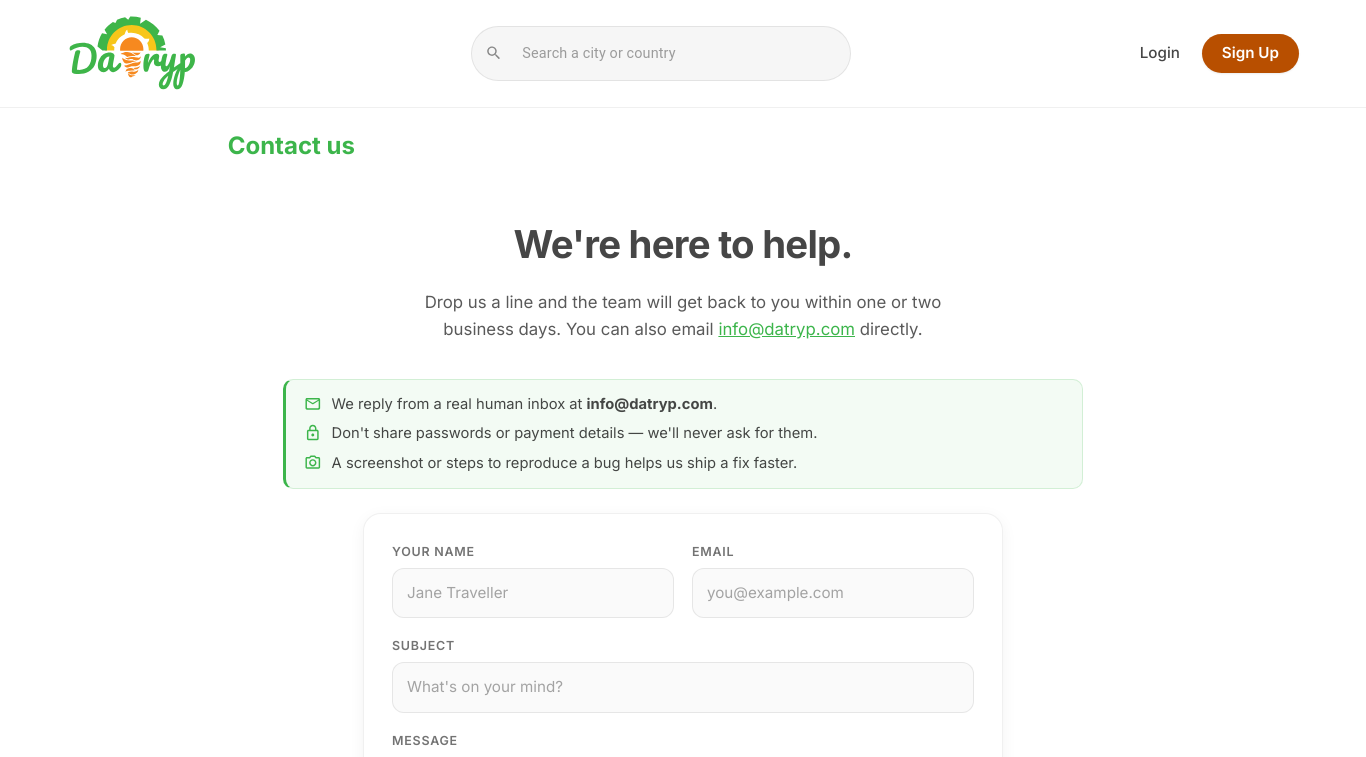
it: Contact › rejects an invalid email address
Type "Jane" into the field labelled "Your name". click: (533, 593)
box: [392, 568, 674, 618]
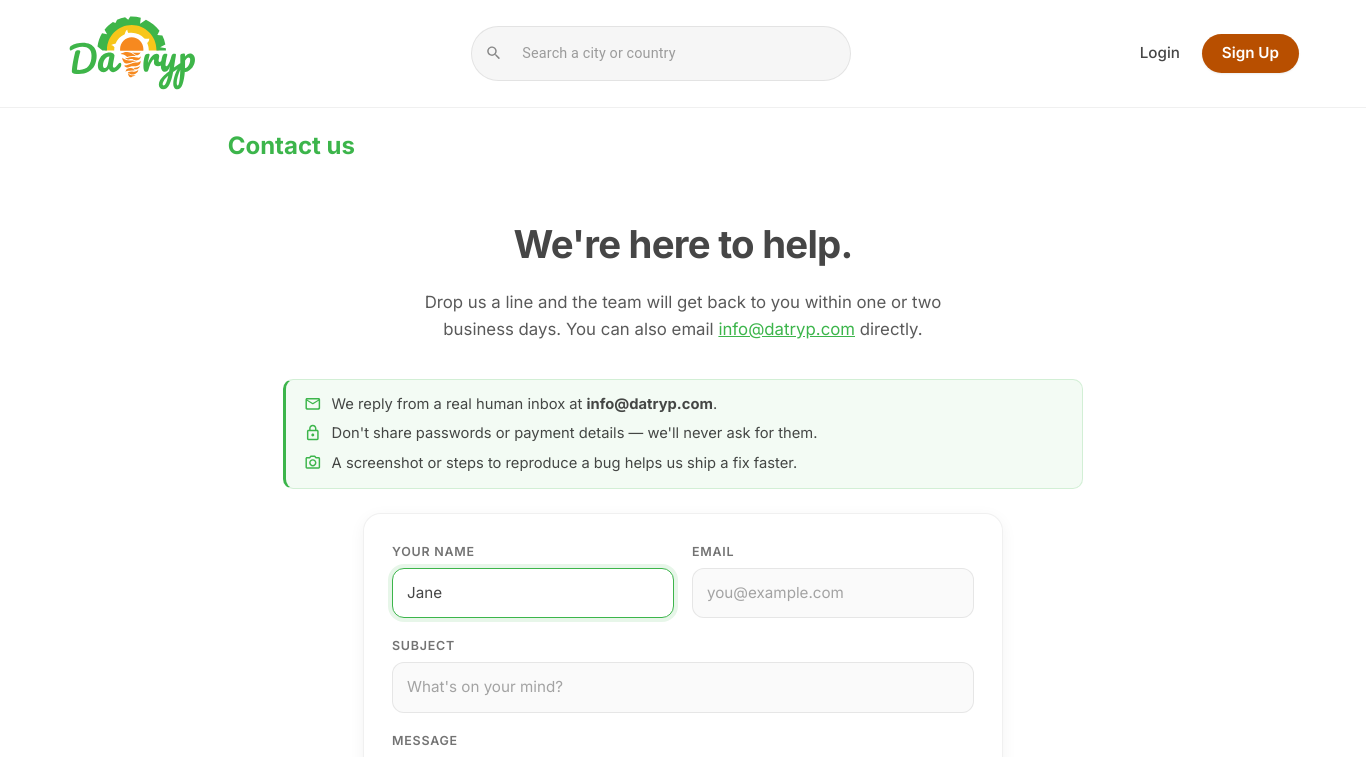
Type "not-an-email" into the field labelled "Email". click: (833, 593)
box: [692, 568, 974, 618]
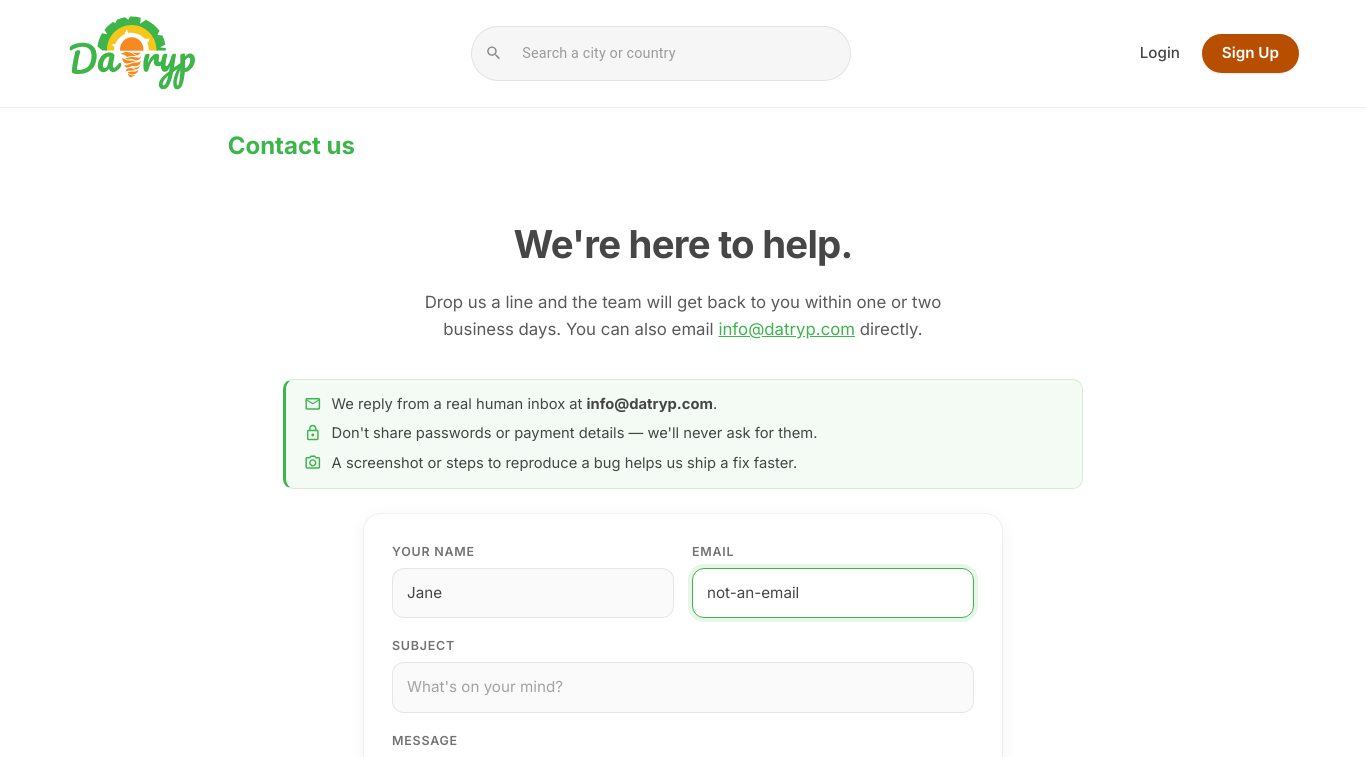
Type "Hi" into the field labelled "Subject". click: (683, 687)
box: [392, 662, 974, 713]
(page scrolled)
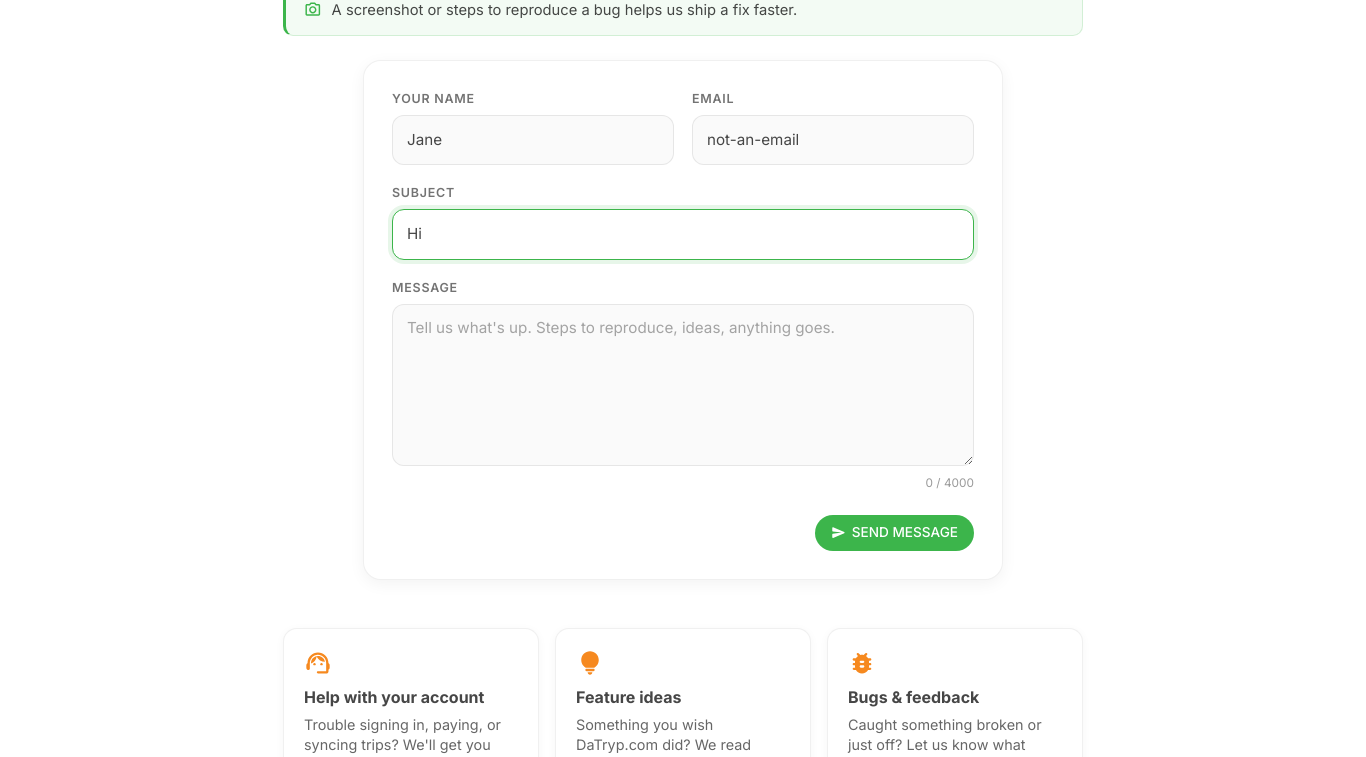
Type "Hello there" into the text box labelled "Message 0 / 4000". click: (683, 385)
box: [392, 304, 974, 466]
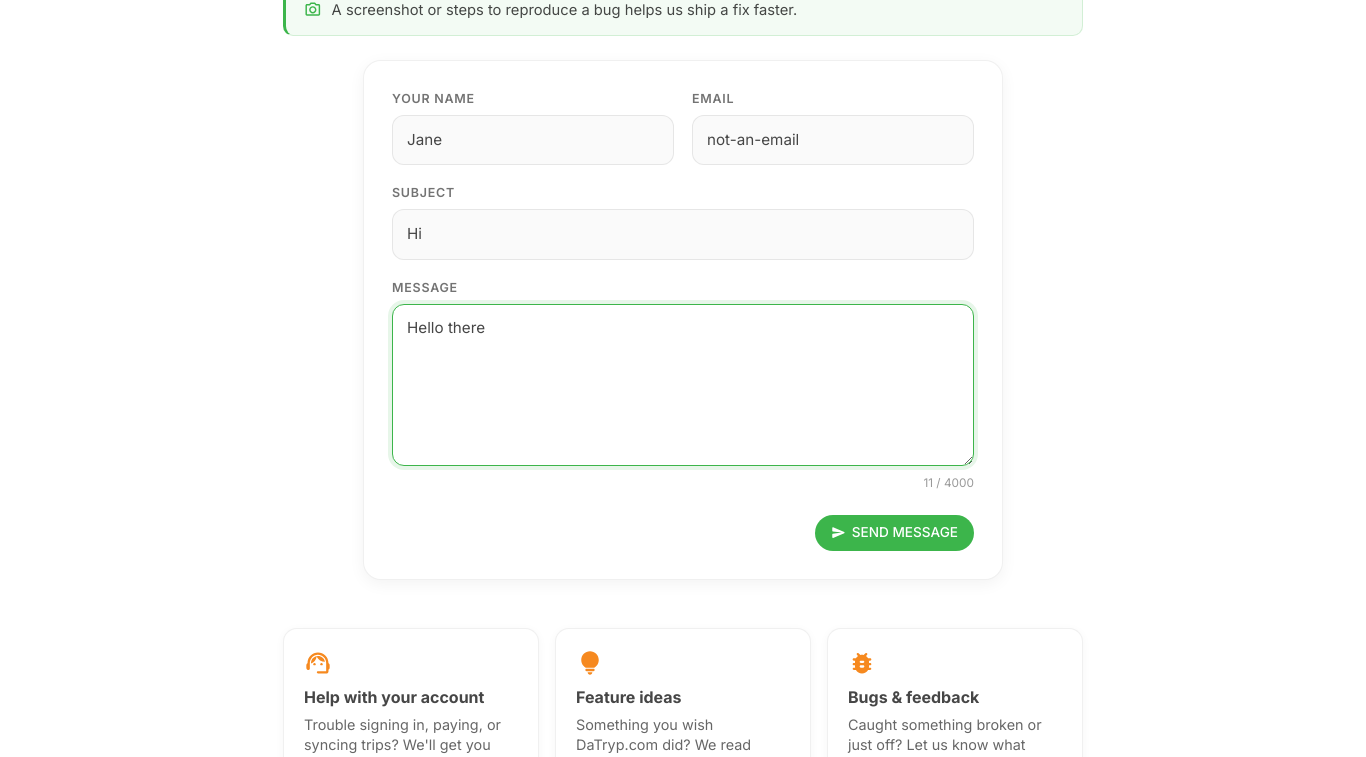
Click the button "Send message". click: (894, 533)
box: [814, 515, 974, 551]
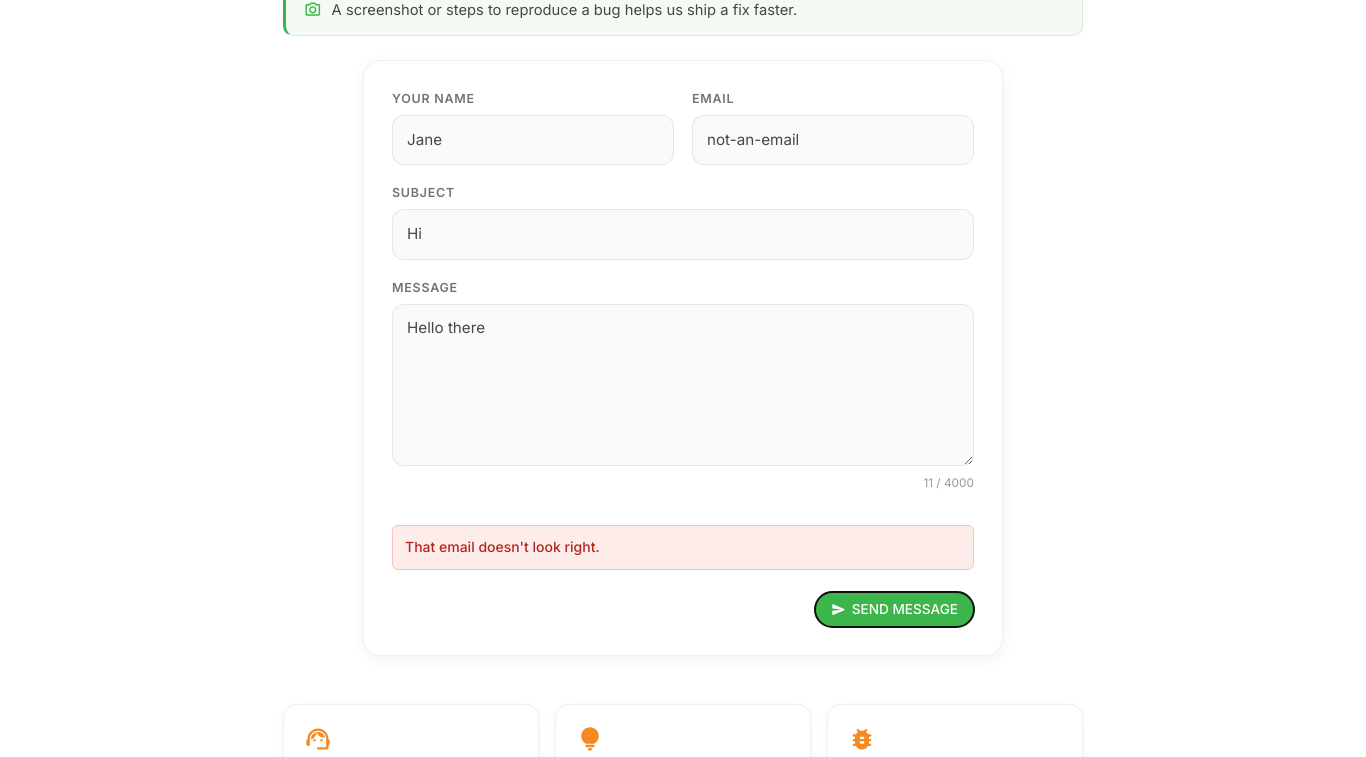
Expected: the message reads "That email doesn't look right.", [405, 538, 600, 555]
